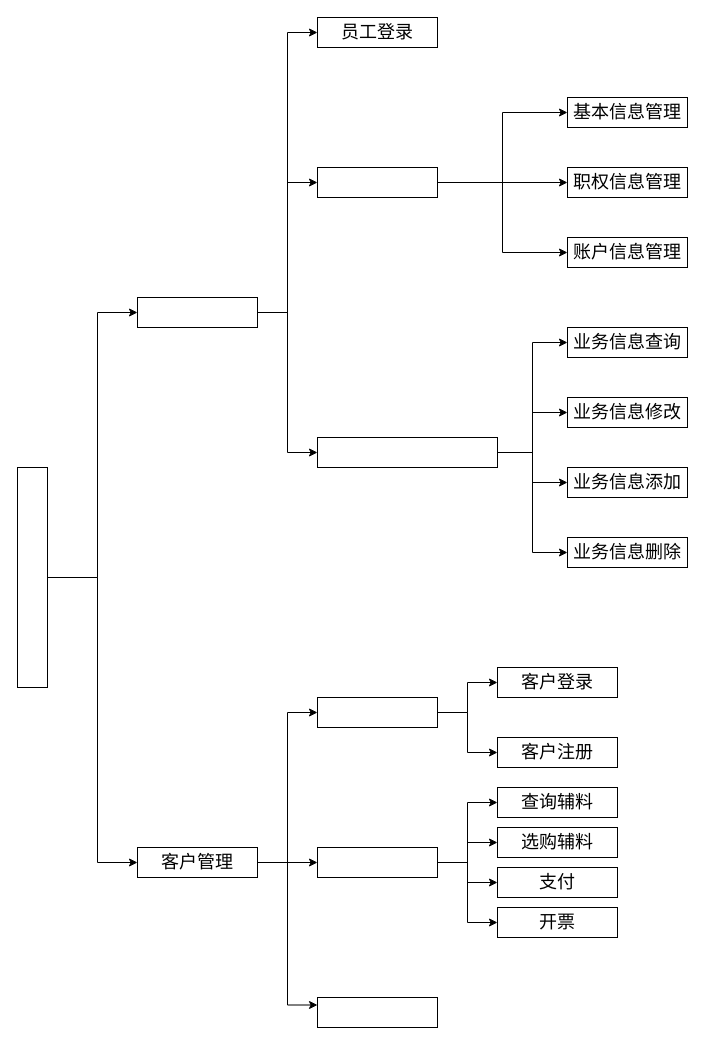
Some shapes in this 705 by 1045 pixel diagram are drawn without their labels. Here are the shapes that lost their labels. From the top down, the centre of each, then its label:
At (x=377, y=182): "员工信息管理".
At (x=197, y=312): "员工管理".
At (x=407, y=452): "员工业务信息表管理".
At (x=32, y=577): "公司销售管理系统".
At (x=377, y=712): "注册登录".
At (x=377, y=862): "订购辅料".
At (x=377, y=1012): "查询订单".
